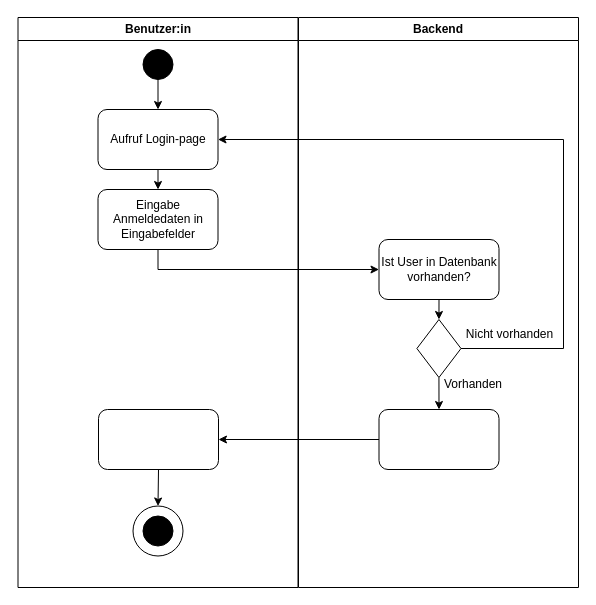
The diagram is 596 pixels wide and 605 high, and some of its shapes have lost their labels. Each missing label, with the centre of its shape:
Abruf Userdaten aus Datenbank: point (438, 439)
Anzeigen Userdaten in GUI: point (158, 439)
